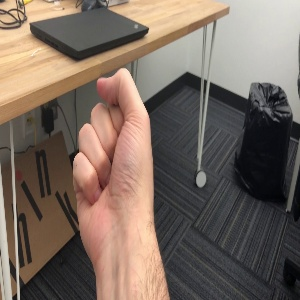hand: (73, 68, 153, 249)
